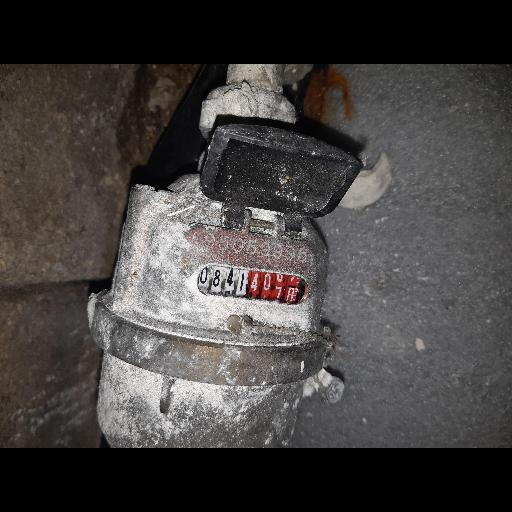0: (283, 275, 300, 306), (196, 263, 212, 295), (260, 271, 275, 301)
1: (234, 269, 250, 299)
4: (221, 266, 238, 299), (247, 270, 263, 300)
6: (269, 273, 288, 304)
8: (210, 265, 225, 295)
border_water_meter_number: (196, 264, 311, 307)
